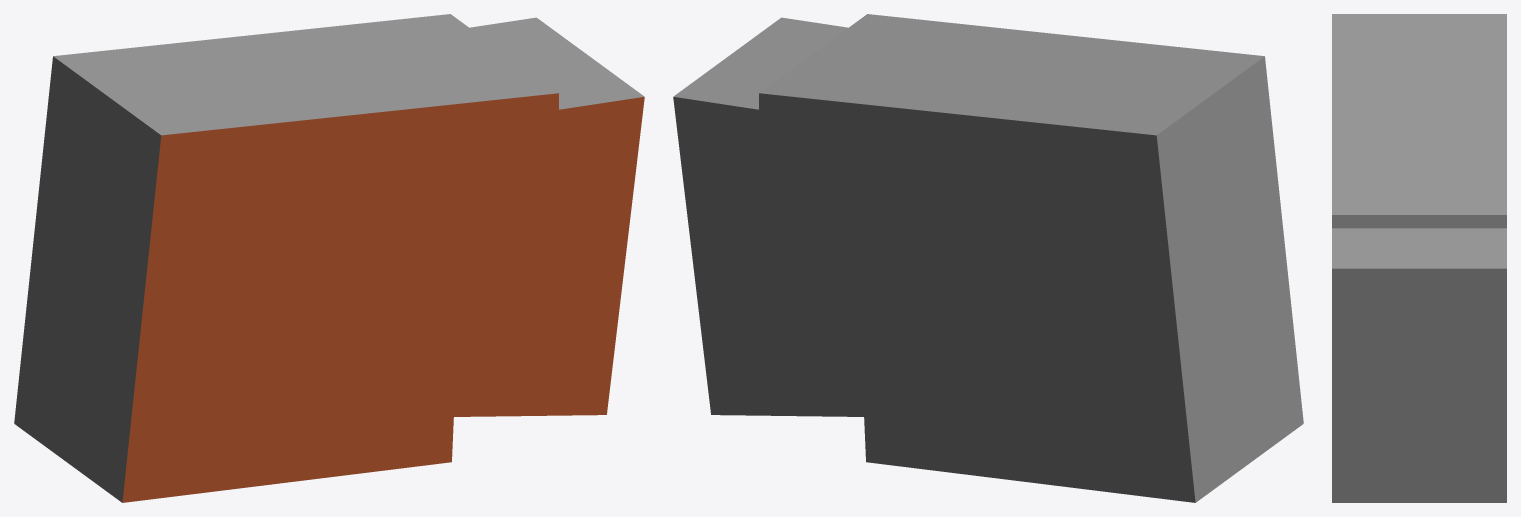
Rendered from construction_6761_assumed_A_Casa_h6m.obj.
3 renders of one model, left to right at view 1: azimuth 30°, elevation 25°; view 2: azimuth 150°, elevation 25°; view 3: azimuth 270°, elevation 25°, orthographic. The views are drawn at different scales.
Visible parts, largest first — view 1: construction_6761_assumed_A_Casa; view 2: construction_6761_assumed_A_Casa; view 3: construction_6761_assumed_A_Casa.
Boxes of the visible parts, x1,y1,x2,y2 form: construction_6761_assumed_A_Casa: (14, 14, 644, 502); construction_6761_assumed_A_Casa: (673, 14, 1303, 502); construction_6761_assumed_A_Casa: (1332, 14, 1506, 502).
Bounding box in the file's own units: 16.72 × 12.16 × 6.
